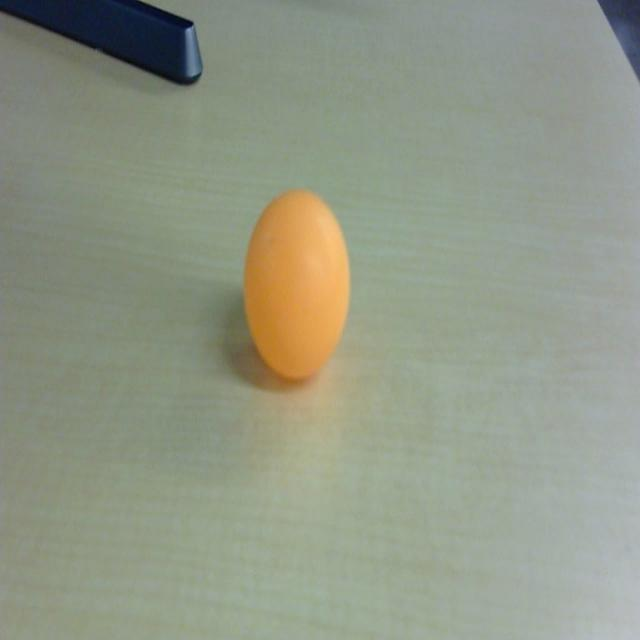ball: (240, 187, 354, 384)
